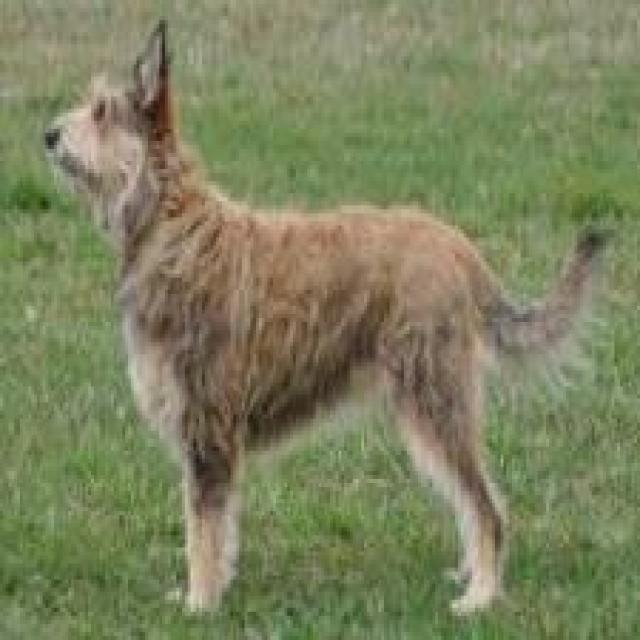Perro: (37, 12, 617, 620)
